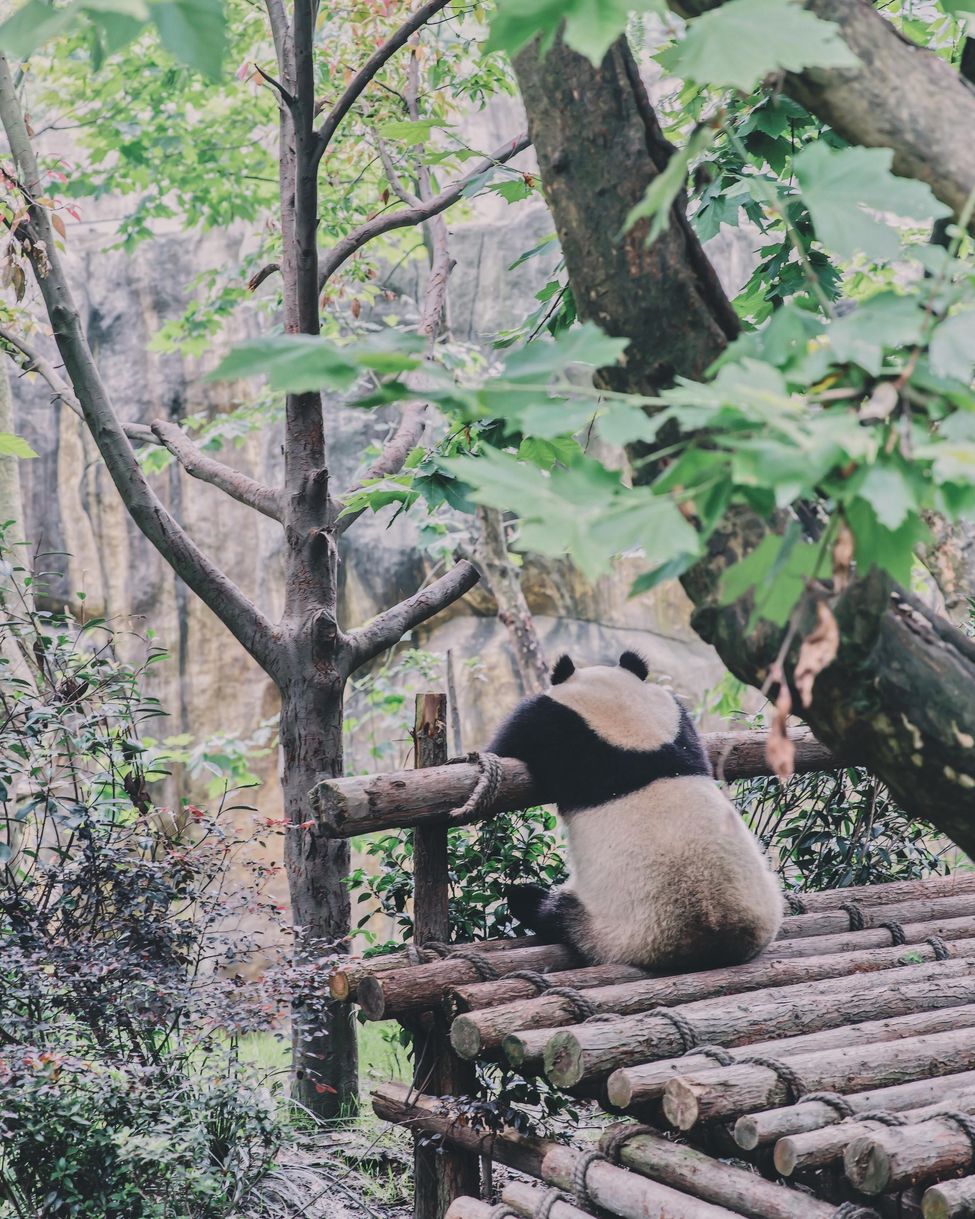panda: (488, 622, 799, 993)
